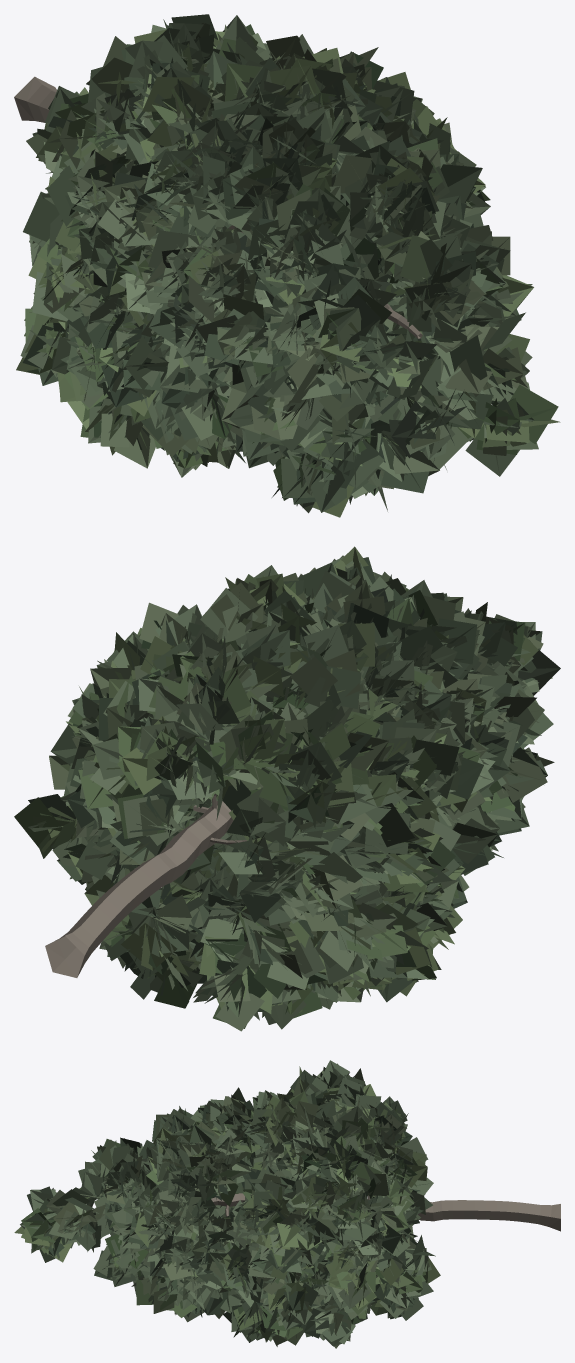
Rendered from tree_mid_13.obj.
3 views of the same model, one above another, from view 1: azimuth 30°, elevation 25°; view 2: azimuth 150°, elevation 25°; view 3: azimuth 270°, elevation 25° (orthographic). The views are drawn at different scales.
Parts seen in each view (by area): view 1: tree_mid_13; view 2: tree_mid_13; view 3: tree_mid_13.
Boxes of the visible parts, x1,y1,x2,y2 form: tree_mid_13: (14, 14, 560, 517); tree_mid_13: (14, 546, 560, 1031); tree_mid_13: (14, 1060, 560, 1348).
Bounding box in the file's own units: 0.5399 × 0.5344 × 1.03.
Materials: 1 (1 with a texture image).
